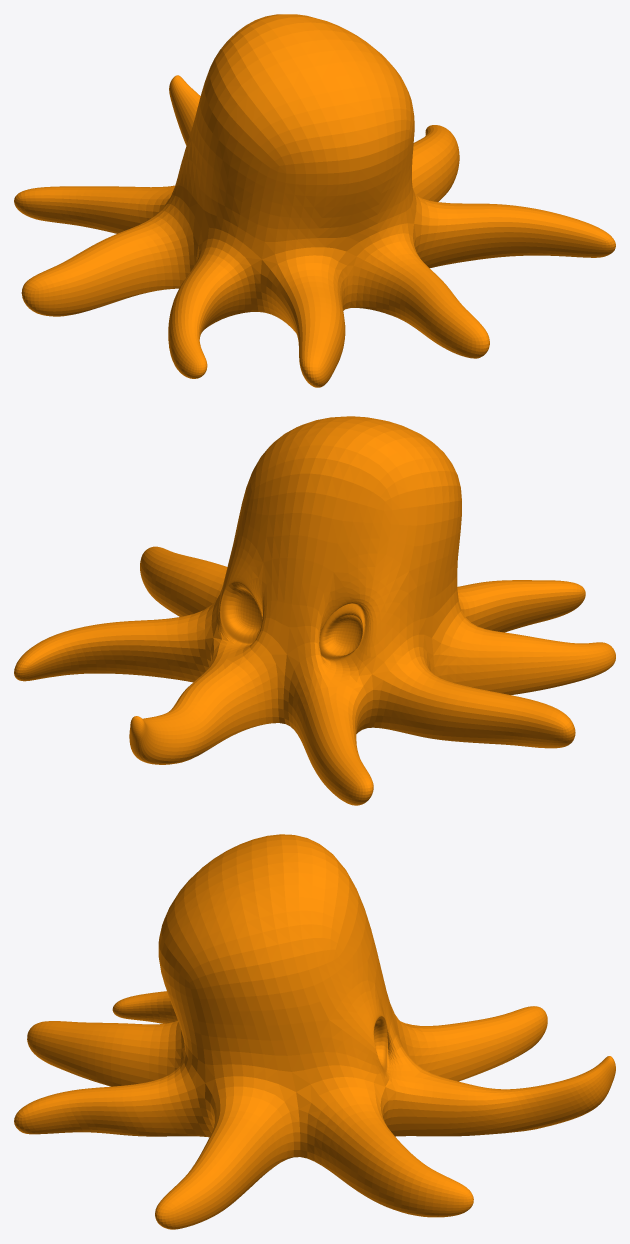
Rendered from octo.obj.
3 views of the same model, one above another, from view 1: azimuth 30°, elevation 25°; view 2: azimuth 150°, elevation 25°; view 3: azimuth 270°, elevation 25° (orthographic).
Parts seen in each view (by area): view 1: Cube_Cube.001; view 2: Cube_Cube.001; view 3: Cube_Cube.001.
Part boxes in pixels (x1,y1,x2,y2): Cube_Cube.001: [14, 14, 615, 387]; Cube_Cube.001: [14, 416, 615, 805]; Cube_Cube.001: [14, 834, 615, 1229].
Size of the model in its own units: 123 by 58.78 by 126.
1 material, 1 textured.
